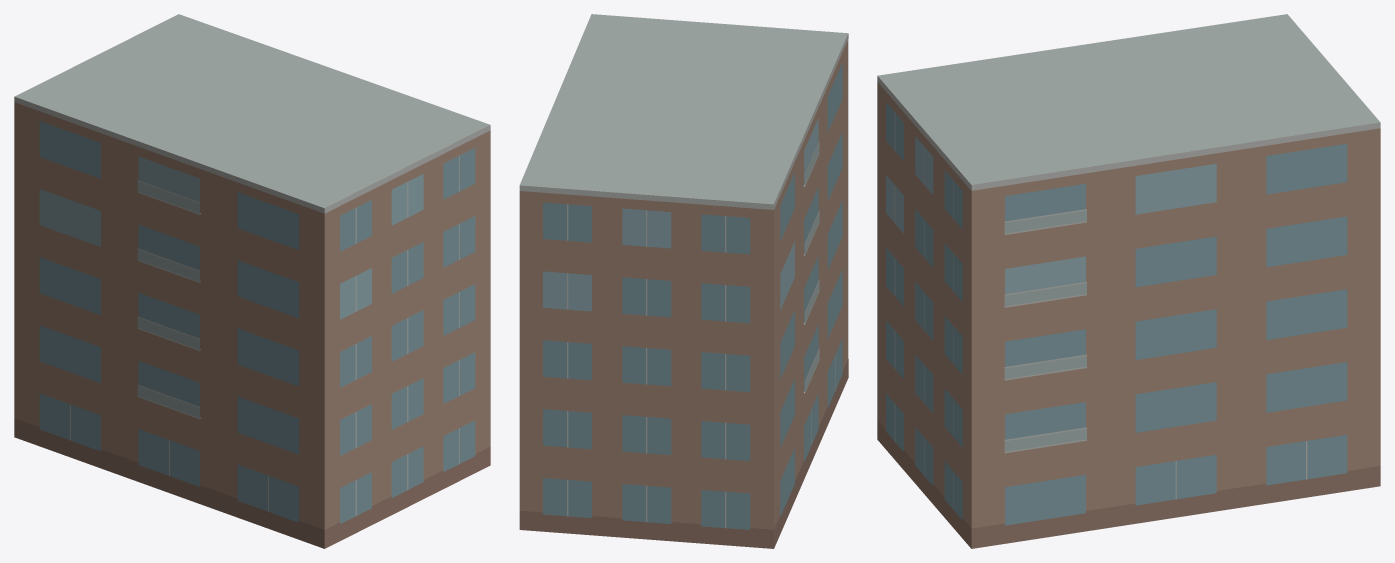
File: survey-upis-32902461.glb
3 views of the same model, side by side, from view 1: azimuth 30°, elevation 25°; view 2: azimuth 150°, elevation 25°; view 3: azimuth 270°, elevation 25° (orthographic). The views are drawn at different scales.
Visible parts, largest first — view 1: survey-upis-32902461.tmp; view 2: survey-upis-32902461.tmp; view 3: survey-upis-32902461.tmp.
Part boxes in pixels (left/top/right/bottom): survey-upis-32902461.tmp: left=14, top=14, right=490, bottom=548; survey-upis-32902461.tmp: left=519, top=14, right=848, bottom=548; survey-upis-32902461.tmp: left=877, top=14, right=1380, bottom=548.
Bounding box in the file's own units: 15.39 × 15.25 × 19.13.
